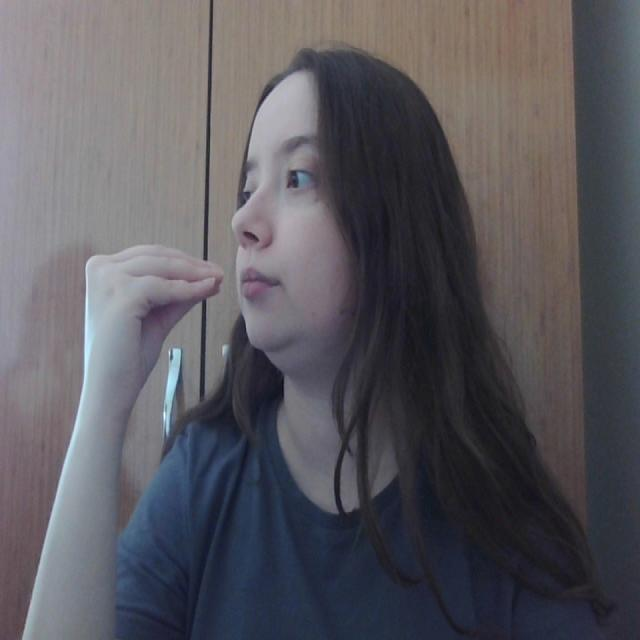Yemek: (80, 242, 280, 324)
